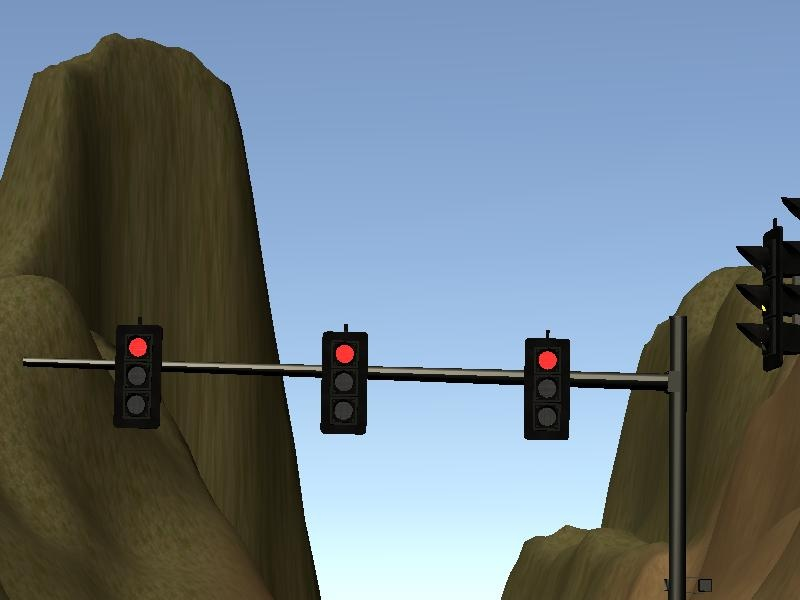red: (316, 321, 376, 446), (514, 328, 576, 446), (110, 316, 168, 430)
